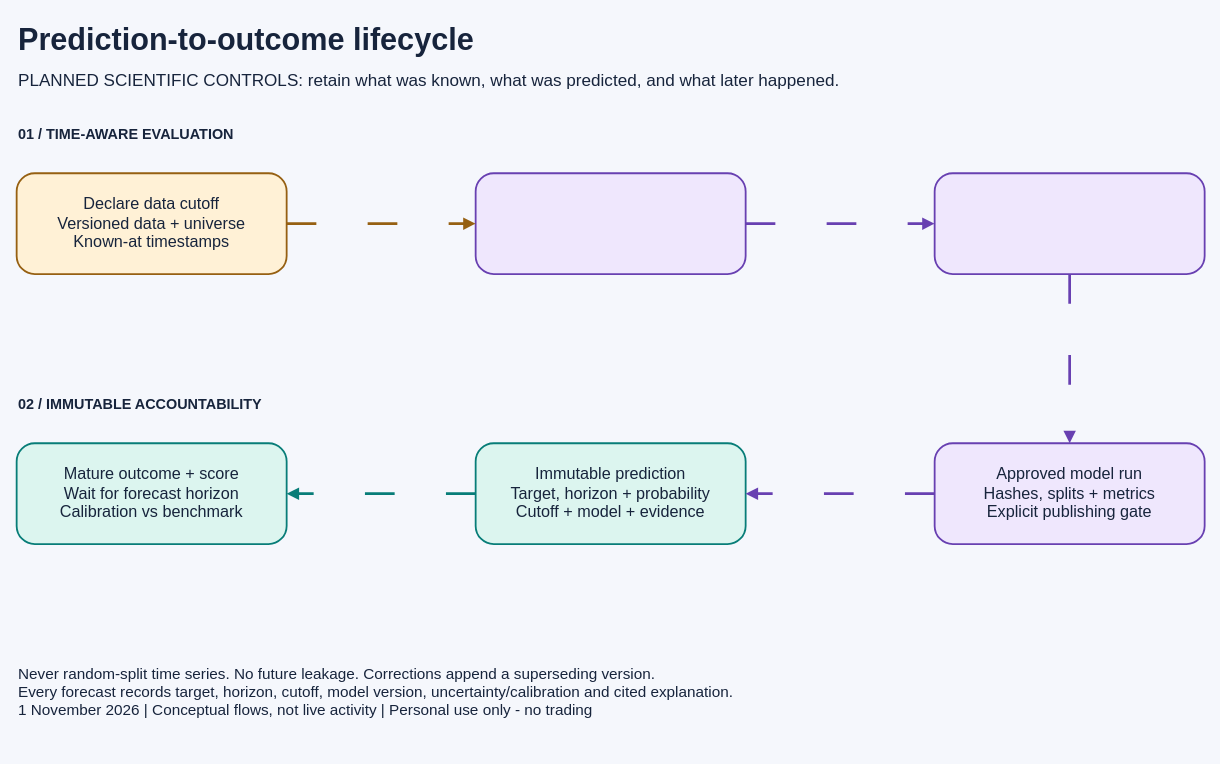
Some shapes in this 1220 by 764 pixel diagram are drawn without their labels. Each missing label, with the centre of its shape:
"Purged walk-forward Rolling/expanding folds Horizon-aware embargo" goes at point (610, 223).
"Train within each fold Fit transforms + calibration Baselines + uncertainty" goes at point (1069, 223).
